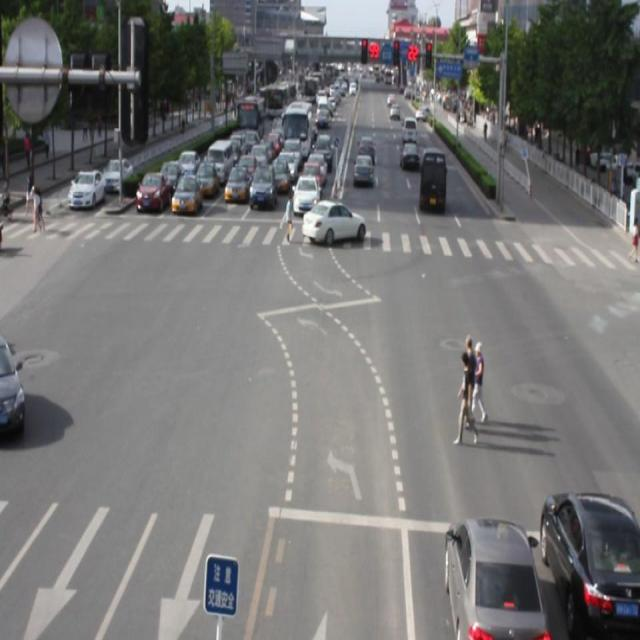BigCar: (280, 91, 313, 145)
car: (427, 505, 556, 640), (538, 479, 640, 640), (296, 194, 374, 252), (419, 142, 450, 225), (66, 164, 106, 215), (170, 167, 206, 217), (221, 156, 250, 214), (249, 160, 280, 213), (133, 167, 166, 215), (353, 148, 378, 194), (395, 135, 420, 177)
